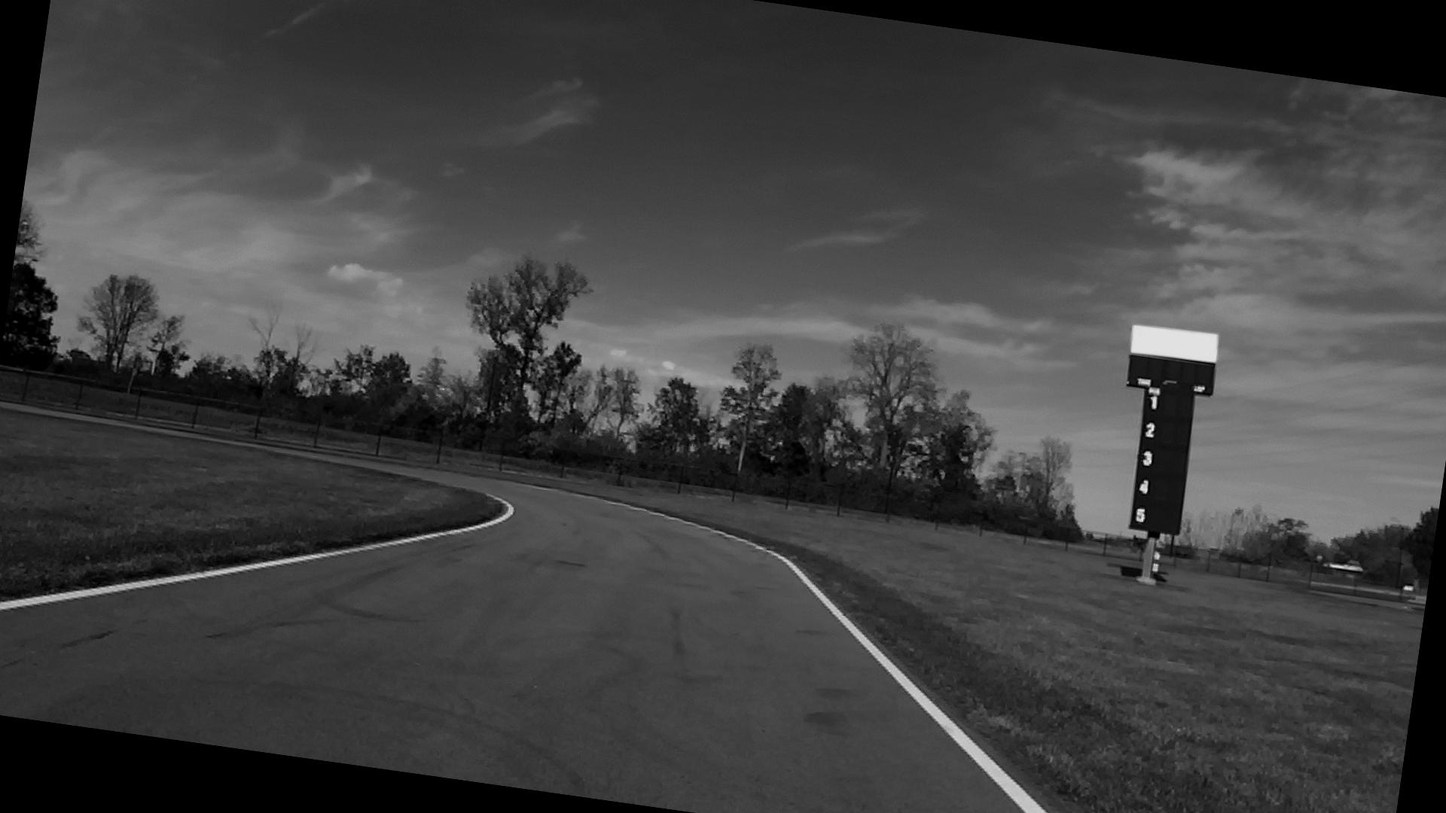white-line: (573, 493, 1048, 813), (712, 530, 1049, 813), (0, 499, 513, 610), (0, 590, 93, 610)
